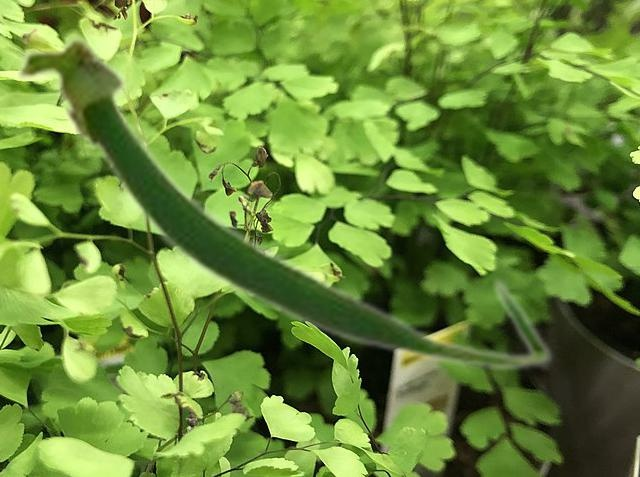french_bean: (12, 31, 554, 373)
